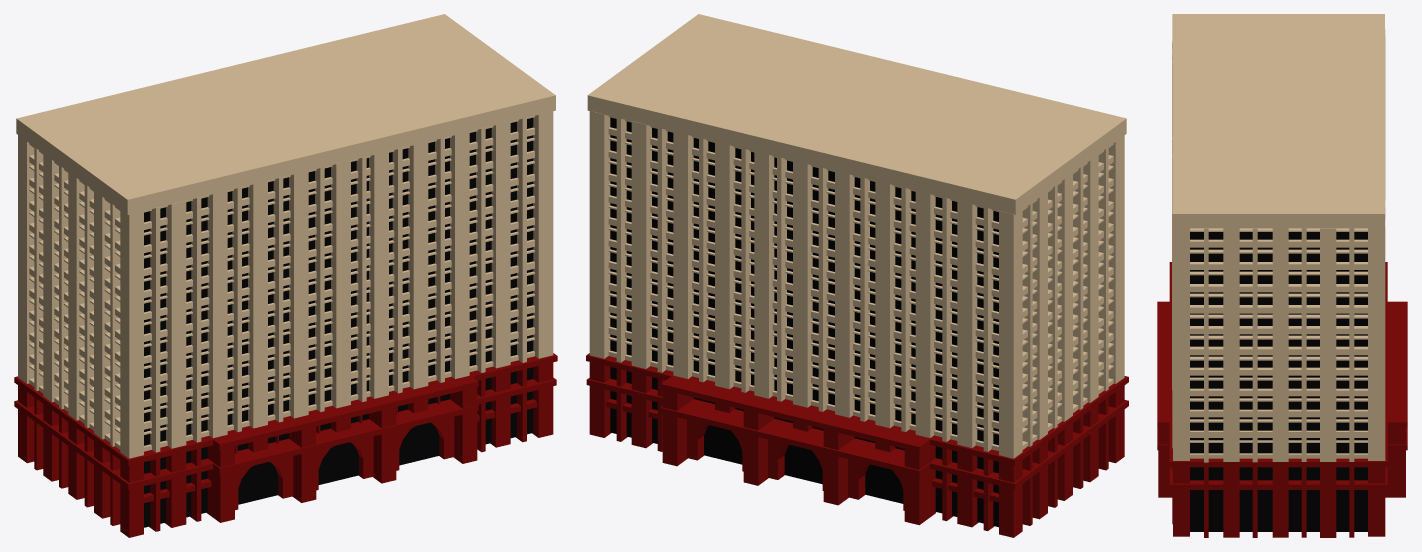
Rendered from SM_Building_1.fbx.
The picture shows the model from 3 angles, left to right: view 1: azimuth 30°, elevation 25°; view 2: azimuth 150°, elevation 25°; view 3: azimuth 270°, elevation 25°; orthographic projection. The views are drawn at different scales.
Visible parts, largest first — view 1: pCube491; view 2: pCube491; view 3: pCube491.
Boxes of the visible parts, x1=… form: pCube491: x1=14, y1=14, x2=557, y2=537; pCube491: x1=586, y1=14, x2=1128, y2=537; pCube491: x1=1157, y1=14, x2=1407, y2=537.
Size of the model in its own units: 193 by 146 by 102.
